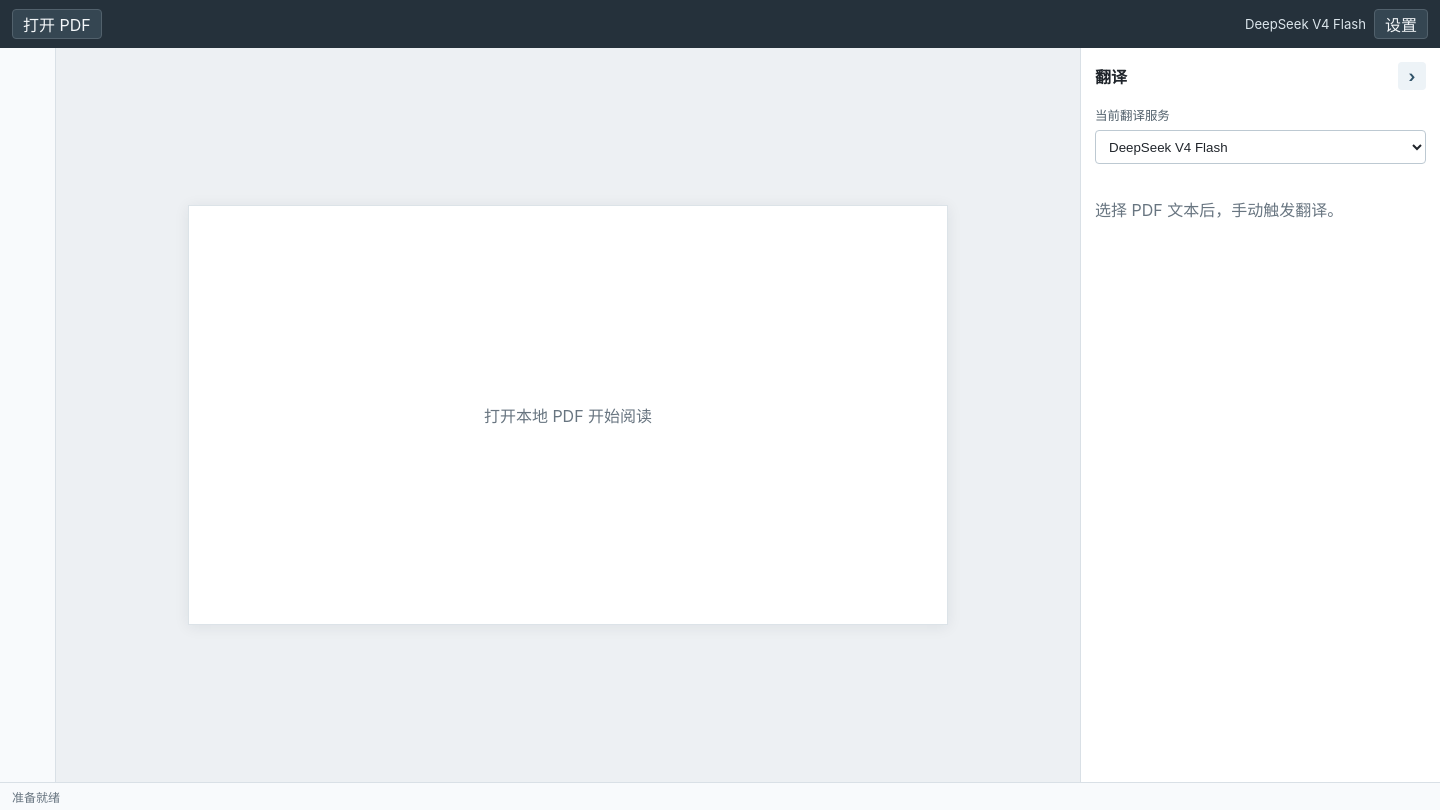
top toolbar keeps the current provider visible while the panel is collapsed
Step 1. Select "Youdao" in the dropdown labelled "当前翻译服务" → (1260, 147), box x1=1095 y1=130 x2=1426 y2=164
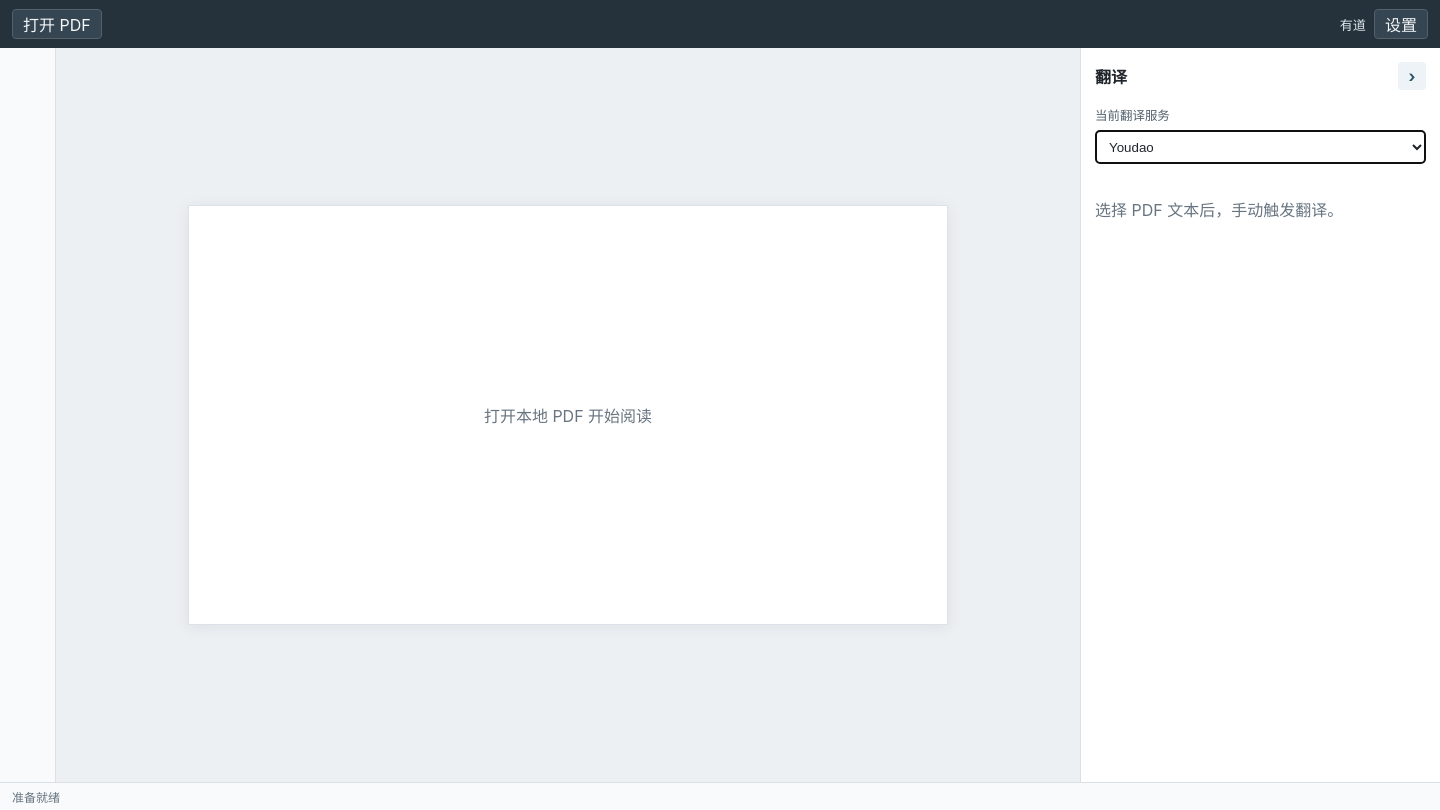
Step 2. Click the button named "收起翻译面板" → (1412, 76), box x1=1398 y1=62 x2=1426 y2=90
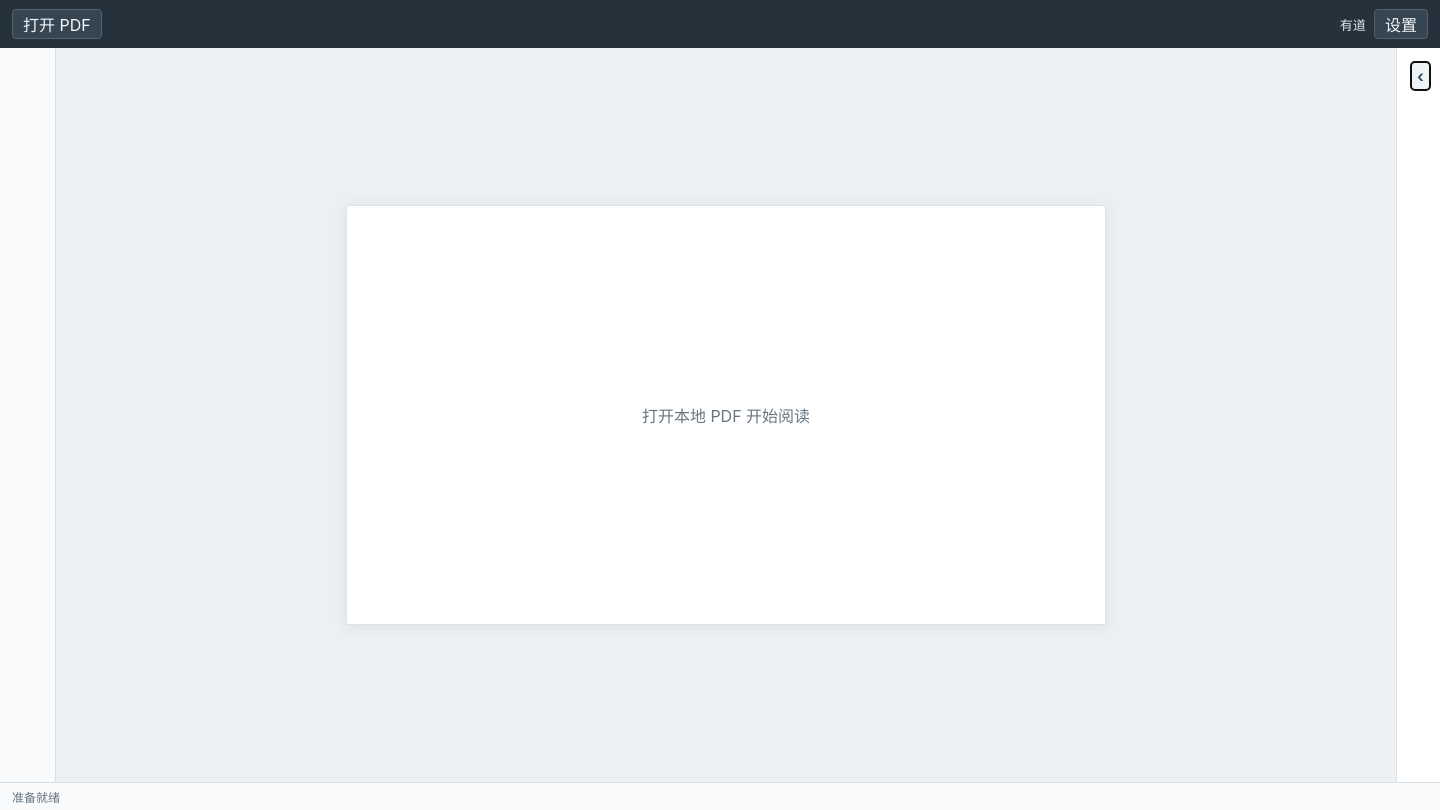
Check: the text named "工具栏当前翻译服务" reads "有道", box x1=1340 y1=16 x2=1366 y2=32
Check: the text "当前翻译服务" is gone
